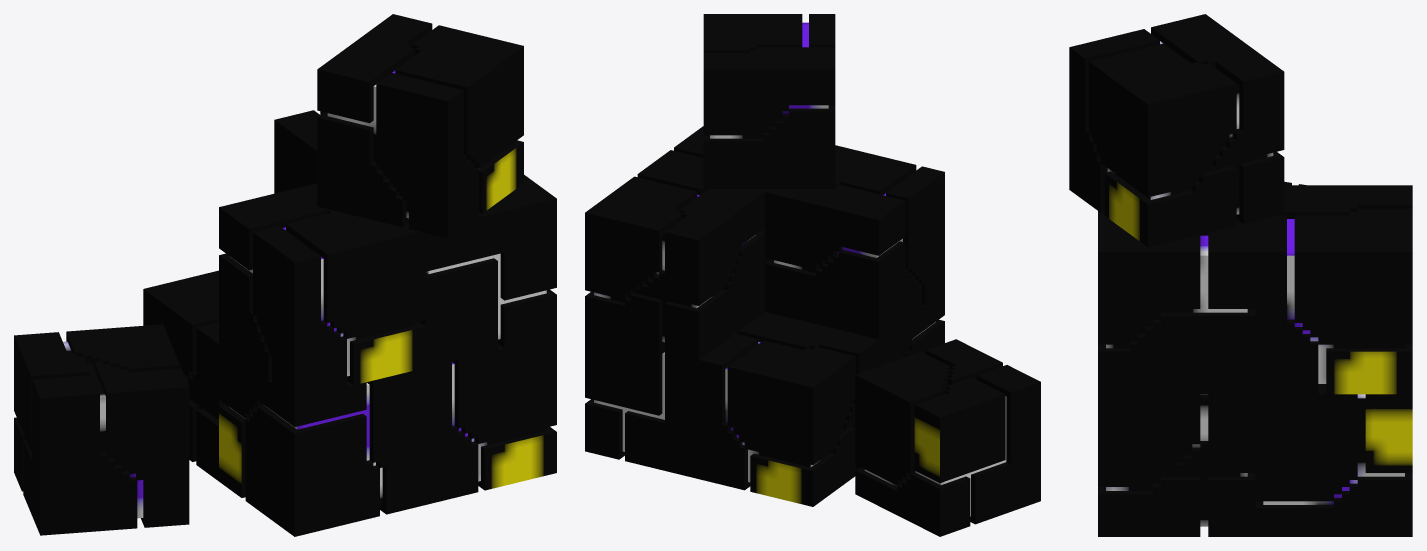
Rendered from VD_cubes.obj.
3 views of the same model, side by side, from view 1: azimuth 30°, elevation 25°; view 2: azimuth 150°, elevation 25°; view 3: azimuth 270°, elevation 25° (orthographic). The views are drawn at different scales.
Parts seen in each view (by area): view 1: cube; view 2: cube; view 3: cube.
Part boxes in pixels (x1,y1,x2,y2): cube: [14, 14, 556, 536]; cube: [585, 14, 1040, 536]; cube: [1069, 14, 1412, 536].
Size of the model in its own units: 4.24 by 3.81 by 2.73.
